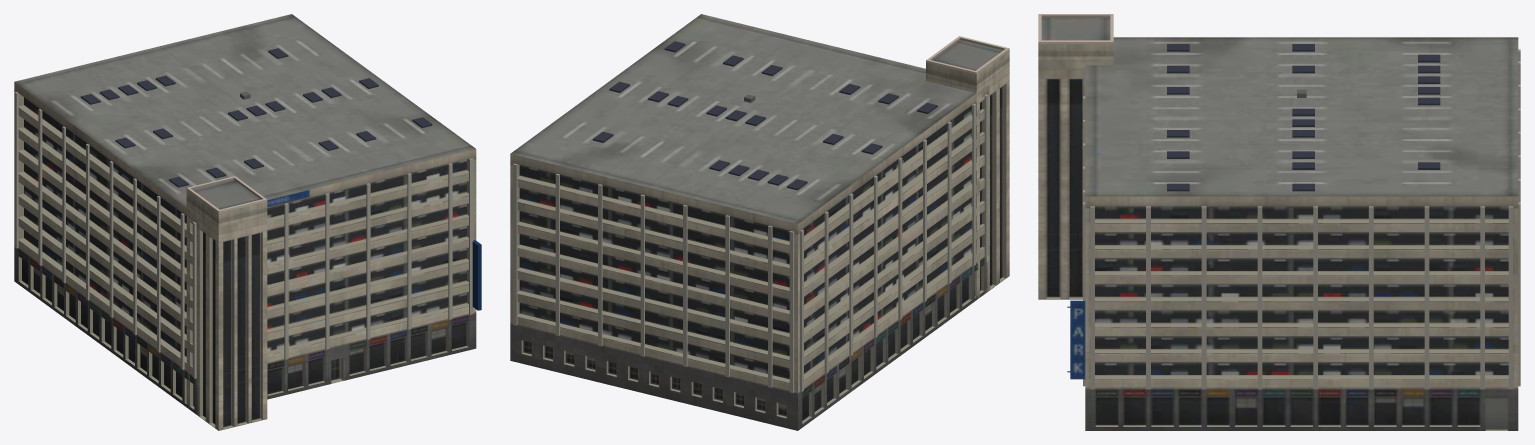
Rendered from seattle_garage_b.glb.
3 renders of one model, left to right at view 1: azimuth 30°, elevation 25°; view 2: azimuth 150°, elevation 25°; view 3: azimuth 270°, elevation 25°, orthographic. The views are drawn at different scales.
Parts seen in each view (by area): view 1: seattle_garage_b; view 2: seattle_garage_b; view 3: seattle_garage_b.
Part boxes in pixels (<box>): seattle_garage_b: <box>14,14,481,430</box>; seattle_garage_b: <box>510,14,1009,430</box>; seattle_garage_b: <box>1038,14,1520,430</box>.
Bounding box in the file's own units: 40.5 × 30.45 × 51.25.
1 material, 1 textured.
